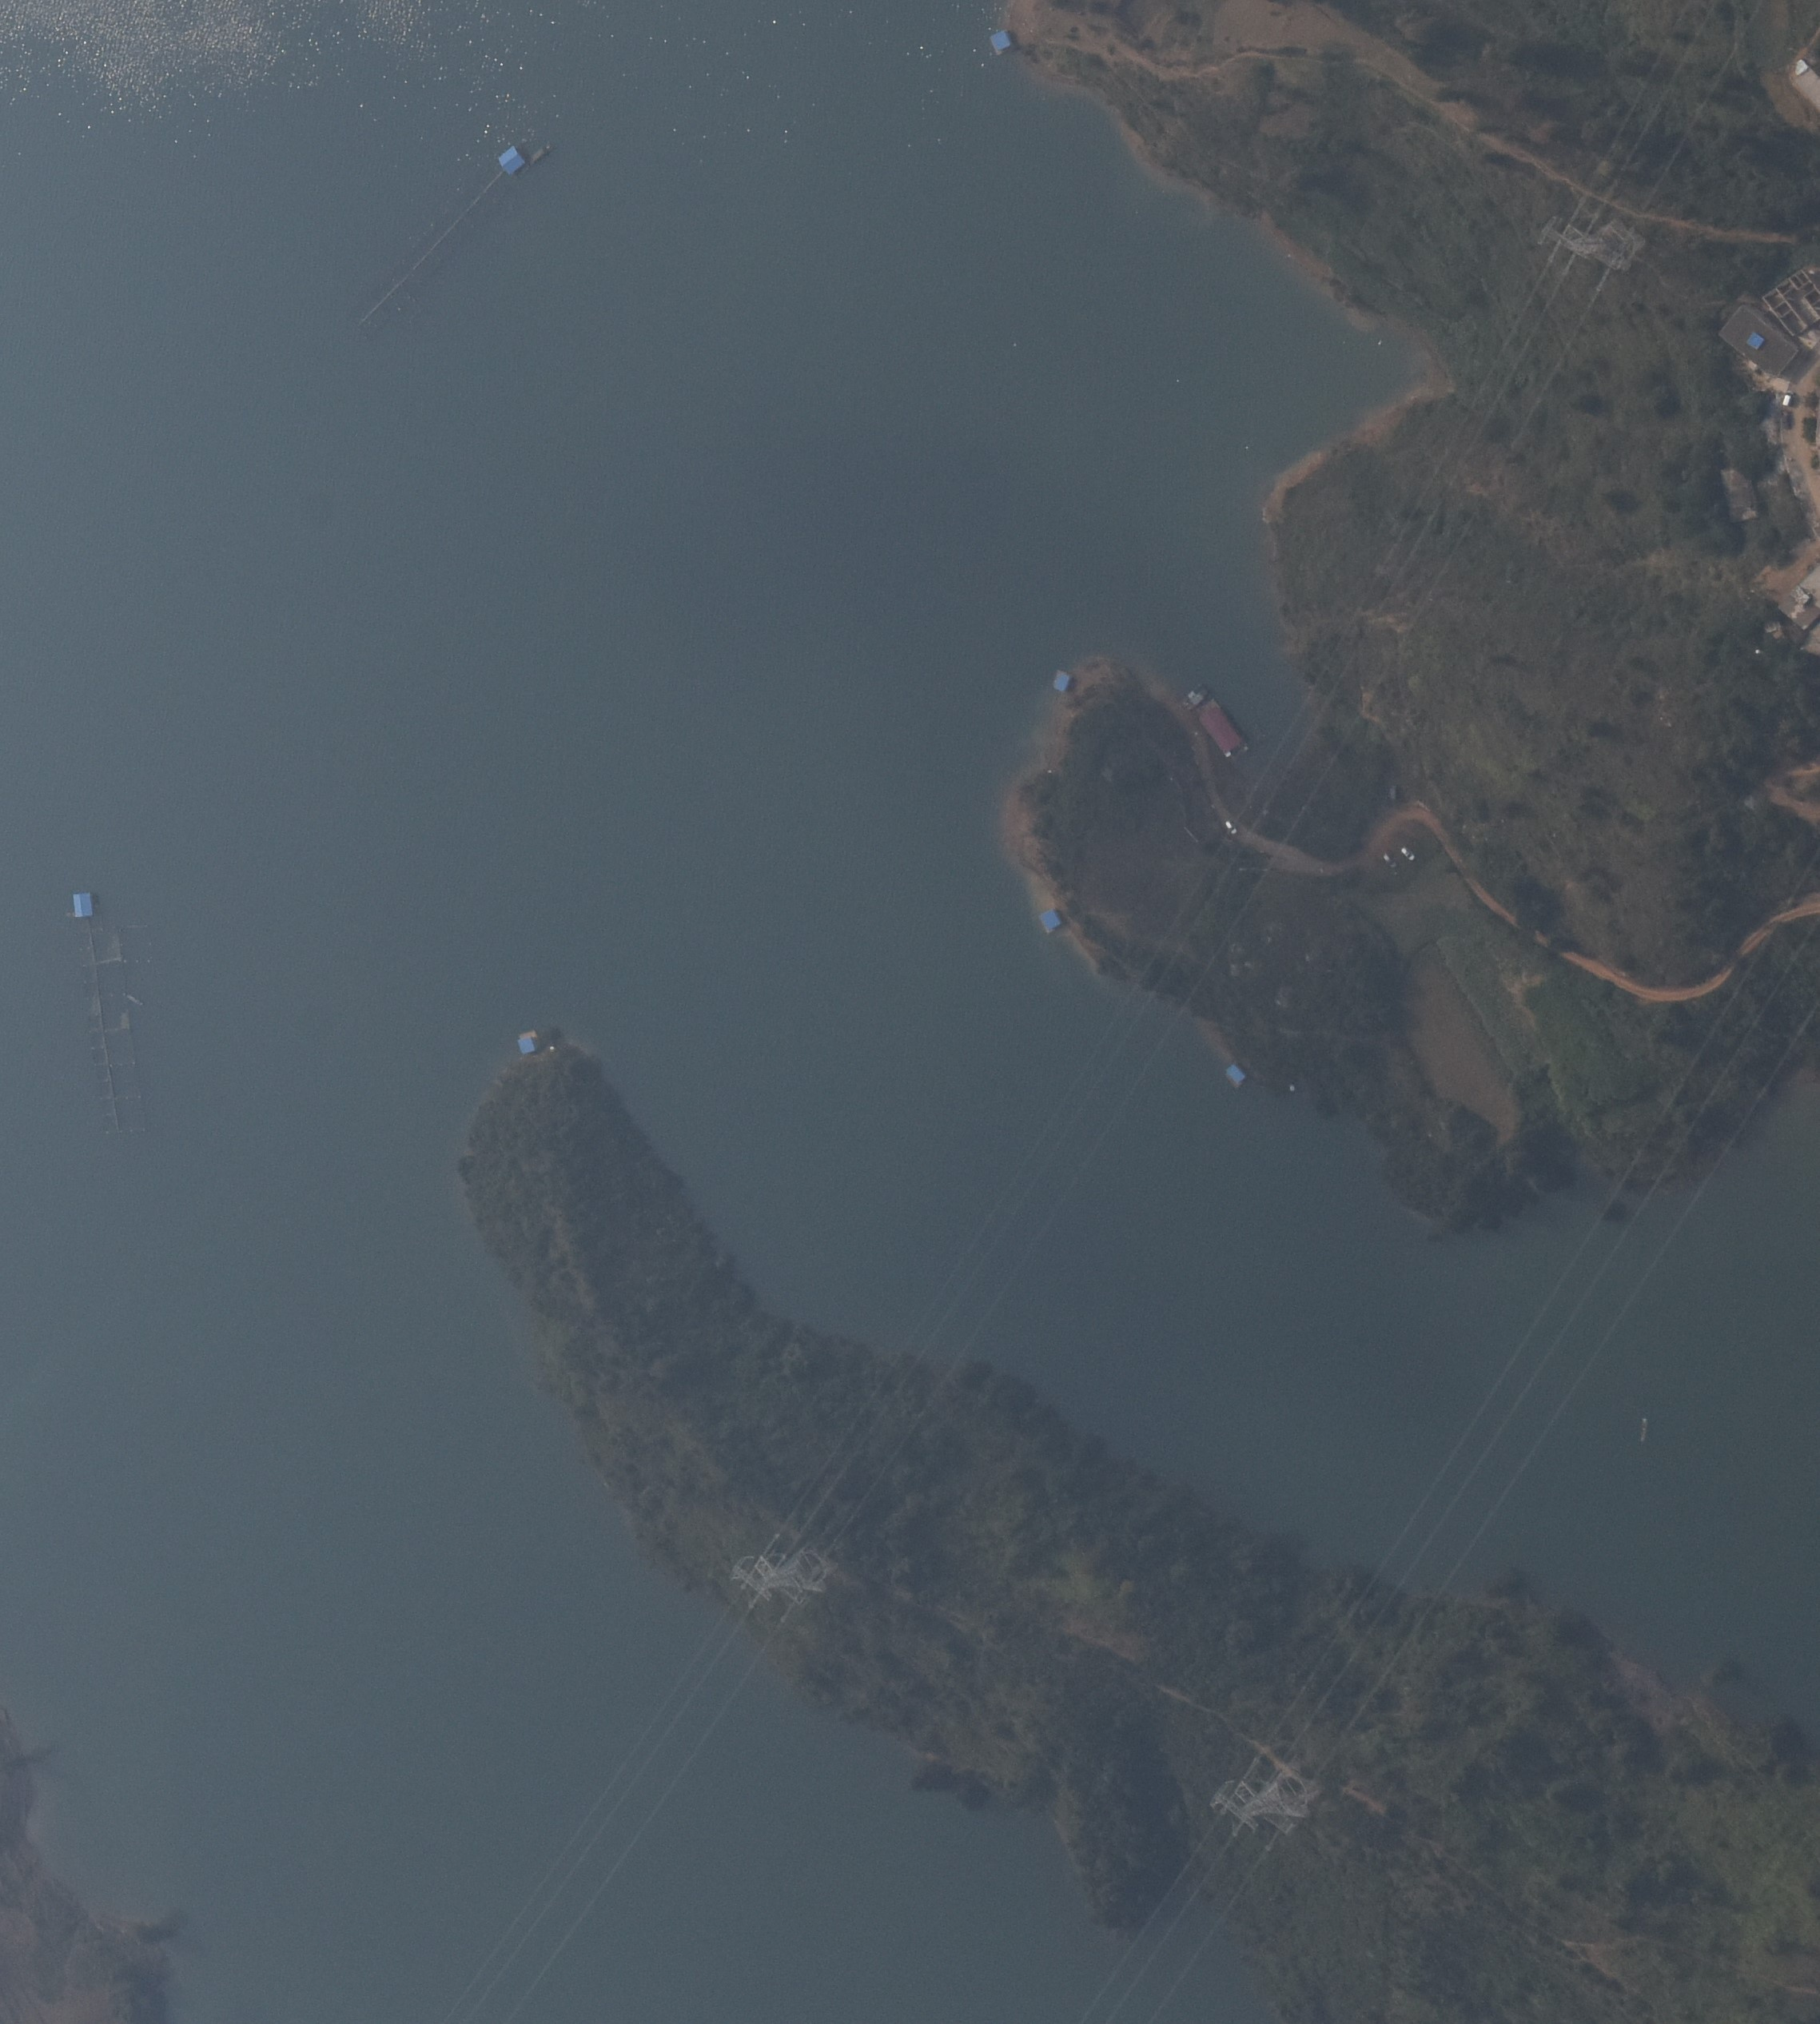cable-tower: (1209, 1753, 1320, 1838), (727, 1540, 840, 1622), (1535, 211, 1648, 273)
cultivation-mesh-cage: (350, 169, 504, 327), (73, 921, 149, 1134)
prefabricated-house: (498, 145, 526, 174), (988, 26, 1013, 55), (1037, 908, 1061, 934), (1225, 1062, 1245, 1090), (73, 890, 94, 918), (1049, 666, 1070, 692), (517, 1030, 538, 1054), (1745, 331, 1765, 350)
ship: (1189, 688, 1245, 760), (1636, 1416, 1649, 1446)
vehicle: (1378, 849, 1399, 871), (1397, 843, 1417, 863), (1221, 818, 1237, 837), (1779, 388, 1794, 408)
